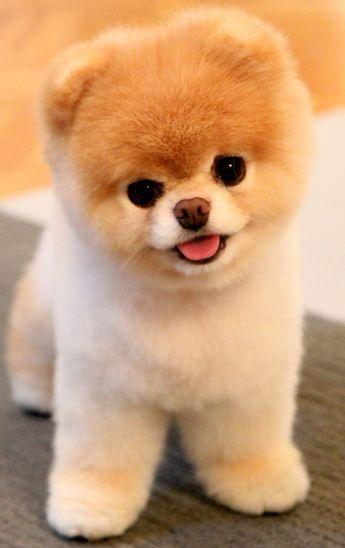adult_dog: (0, 4, 317, 540)
